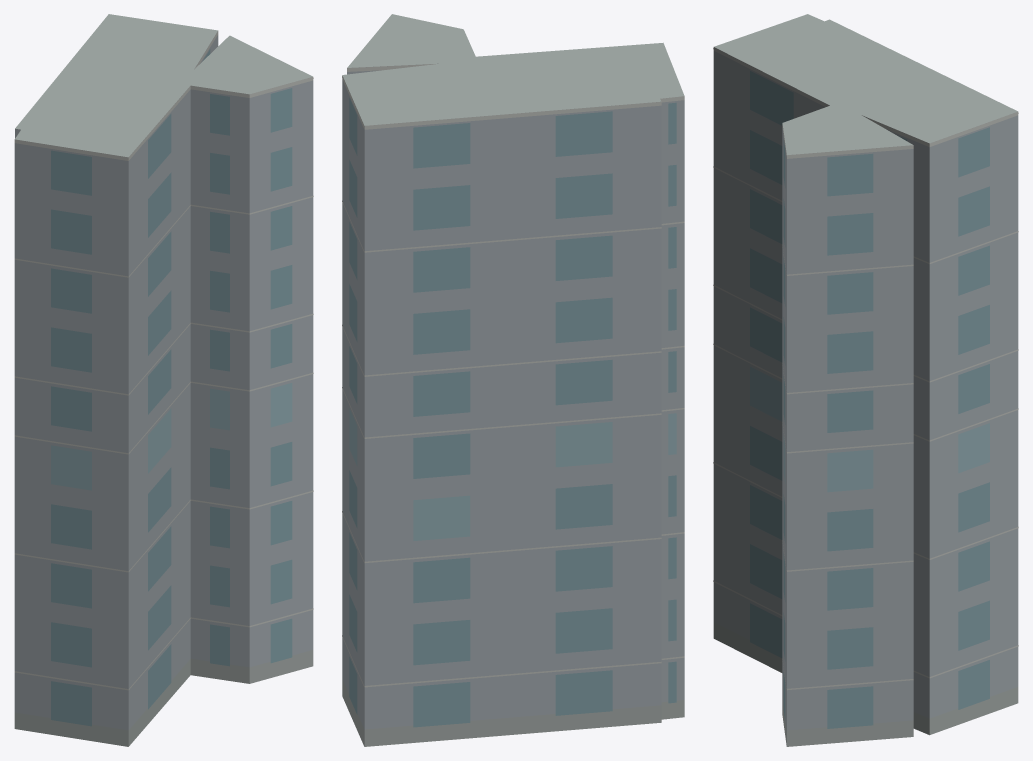
The model's file is survey-upis-33024260.glb.
3 views of the same model, side by side, from view 1: azimuth 30°, elevation 25°; view 2: azimuth 150°, elevation 25°; view 3: azimuth 270°, elevation 25° (orthographic). The views are drawn at different scales.
Visible parts, largest first — view 1: survey-upis-33024260.tmp; view 2: survey-upis-33024260.tmp; view 3: survey-upis-33024260.tmp.
Part boxes in pixels (left/top/right/bottom): survey-upis-33024260.tmp: left=14, top=14, right=313, bottom=746; survey-upis-33024260.tmp: left=342, top=14, right=684, bottom=746; survey-upis-33024260.tmp: left=713, top=14, right=1018, bottom=746.
Bounding box in the file's own units: 19.62 × 38.3 × 17.9.
